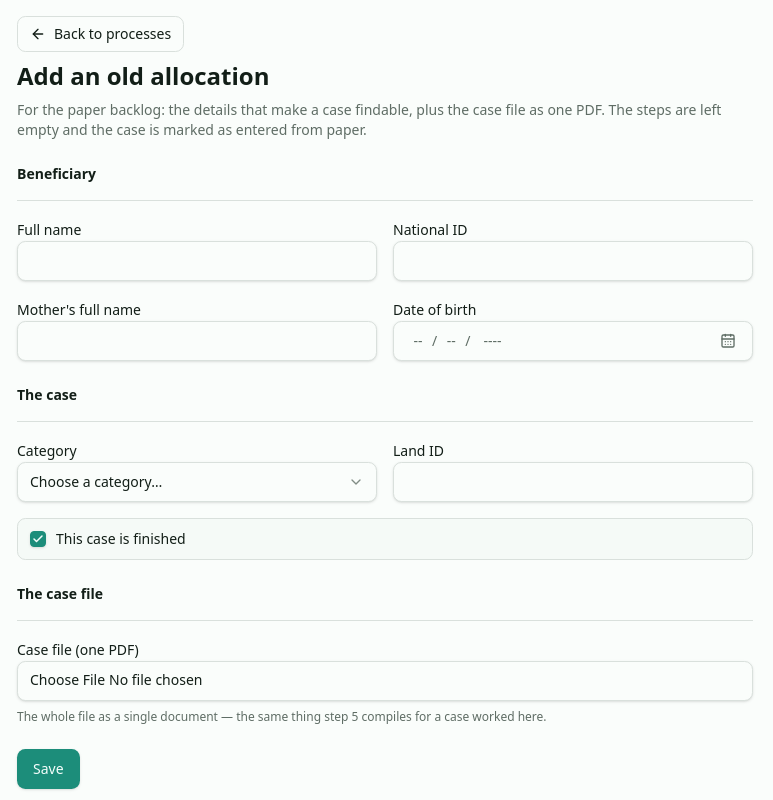
Test case: FastEntryPage › filters the national ID as it is typed, like every other ID box
The image size is (773, 800).
In the field labelled "National ID": (573, 261) x1=393 y1=241 x2=753 y2=281, type "١٩٧٧a12"
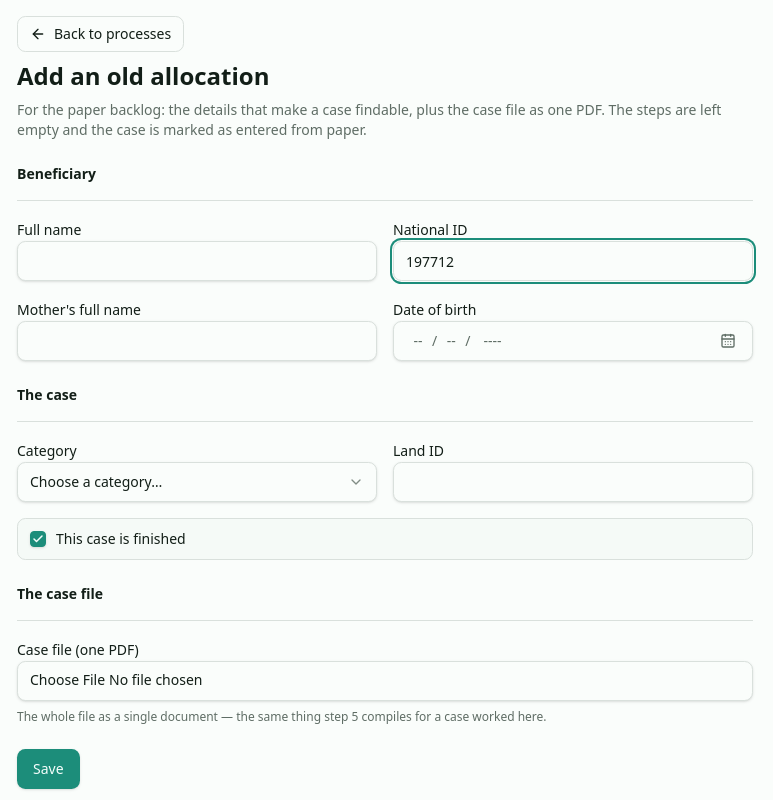
Result: the field labelled "National ID" holds "197712" at x1=393 y1=241 x2=753 y2=281
